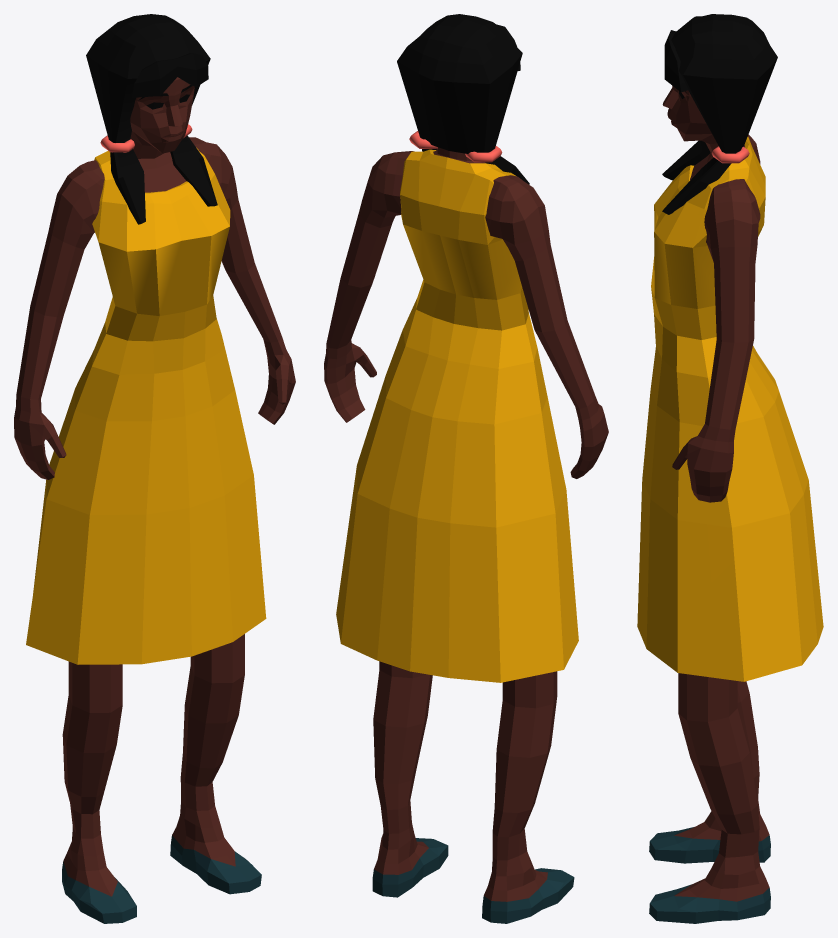
File: Female_10.FBX
The picture shows the model from 3 angles, left to right: view 1: azimuth 30°, elevation 25°; view 2: azimuth 150°, elevation 25°; view 3: azimuth 270°, elevation 25°; orthographic projection.
Visible parts, largest first — view 1: Female_10; view 2: Female_10; view 3: Female_10.
Part boxes in pixels (x1=…): Female_10: x1=14, y1=14, x2=295, y2=923; Female_10: x1=324, y1=14, x2=608, y2=923; Female_10: x1=637, y1=14, x2=823, y2=923.
Bounding box in the file's own units: 0.5663 × 1.72 × 0.3369.
Materials: 1 (1 with a texture image).
